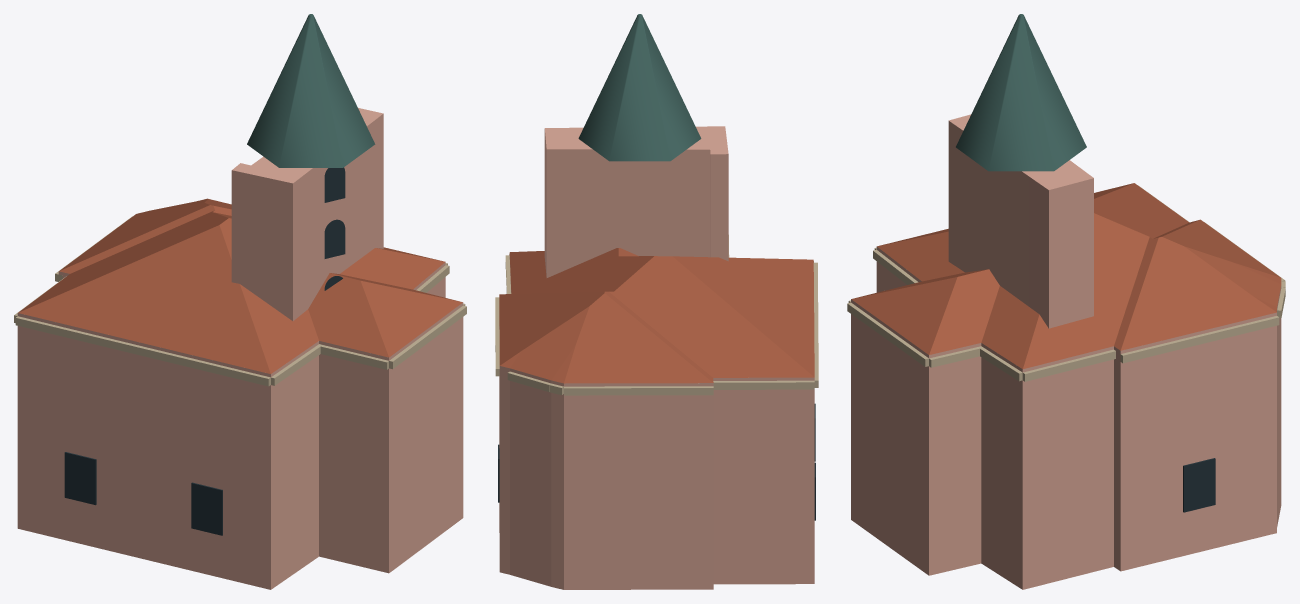
File: gaudi-house.glb
3 renders of one model, left to right at view 1: azimuth 30°, elevation 25°; view 2: azimuth 150°, elevation 25°; view 3: azimuth 270°, elevation 25°, orthographic. The views are drawn at different scales.
Visible parts, largest first — view 1: primary-envelope, primary-roof, house-tower, house-spire, cornice, window-rhythm, tower-window; view 2: primary-envelope, primary-roof, house-tower, house-spire, cornice; view 3: primary-envelope, primary-roof, house-tower, house-spire, cornice, window-rhythm.
Boxes of the visible parts, left/top/right/bottom form: primary-envelope: left=17, top=262, right=463, bottom=589; primary-roof: left=18, top=198, right=462, bottom=373; house-tower: left=231, top=108, right=383, bottom=320; house-spire: left=247, top=14, right=375, bottom=167; cornice: left=14, top=216, right=466, bottom=386; window-rhythm: left=64, top=452, right=222, bottom=535; tower-window: left=324, top=167, right=345, bottom=290; primary-envelope: left=499, top=256, right=814, bottom=589; primary-roof: left=499, top=248, right=814, bottom=383; house-tower: left=544, top=126, right=728, bottom=277; house-spire: left=578, top=14, right=701, bottom=161; cornice: left=495, top=235, right=818, bottom=395; primary-envelope: left=851, top=246, right=1281, bottom=589; primary-roof: left=851, top=183, right=1281, bottom=368; house-tower: left=948, top=114, right=1093, bottom=328; house-spire: left=956, top=14, right=1086, bottom=171; cornice: left=847, top=185, right=1285, bottom=381; window-rhythm: left=1183, top=458, right=1215, bottom=512.
Bounding box in the file's own units: 16 × 19.98 × 15.65.
